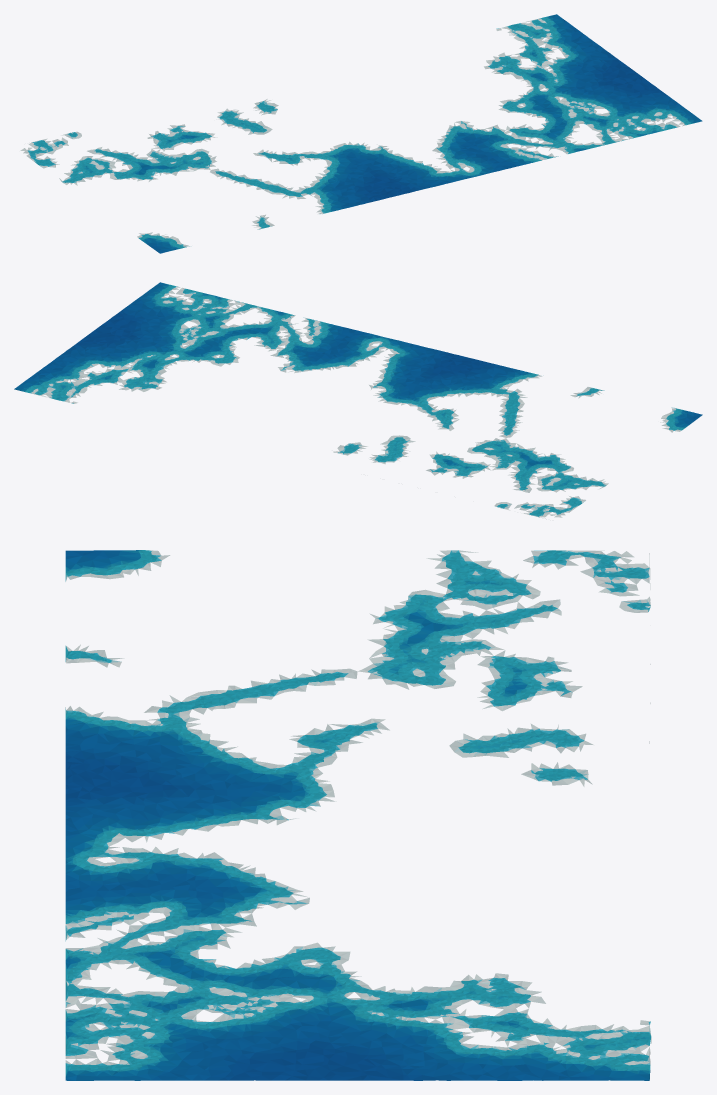
Rendered from sea.glb.
The picture shows the model from 3 angles, top to bottom: view 1: azimuth 30°, elevation 25°; view 2: azimuth 150°, elevation 25°; view 3: azimuth 270°, elevation 25°; orthographic projection. The views are drawn at different scales.
Parts seen in each view (by area): view 1: BoardSea; view 2: BoardSea; view 3: BoardSea.
Part boxes in pixels (bbox=[...]): BoardSea: bbox=[20, 14, 702, 253]; BoardSea: bbox=[14, 282, 702, 519]; BoardSea: bbox=[65, 550, 651, 1080].
Bounding box in the file's own units: 128 × 0.05 × 59.79.
